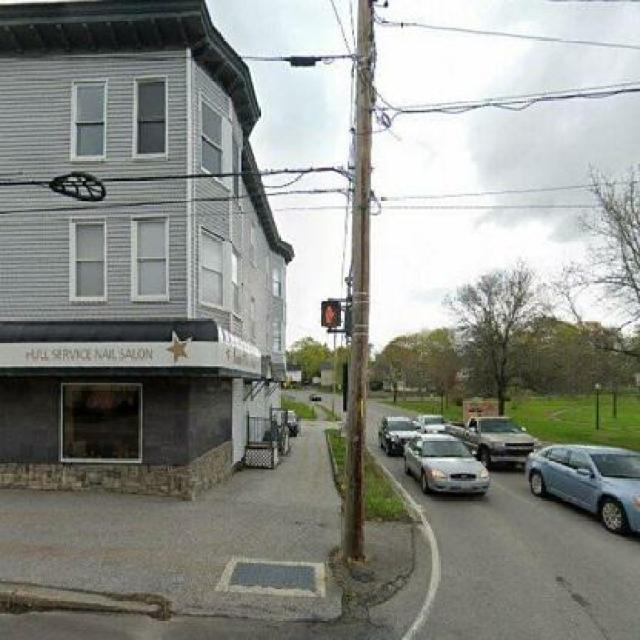pole: (320, 0, 402, 560)
